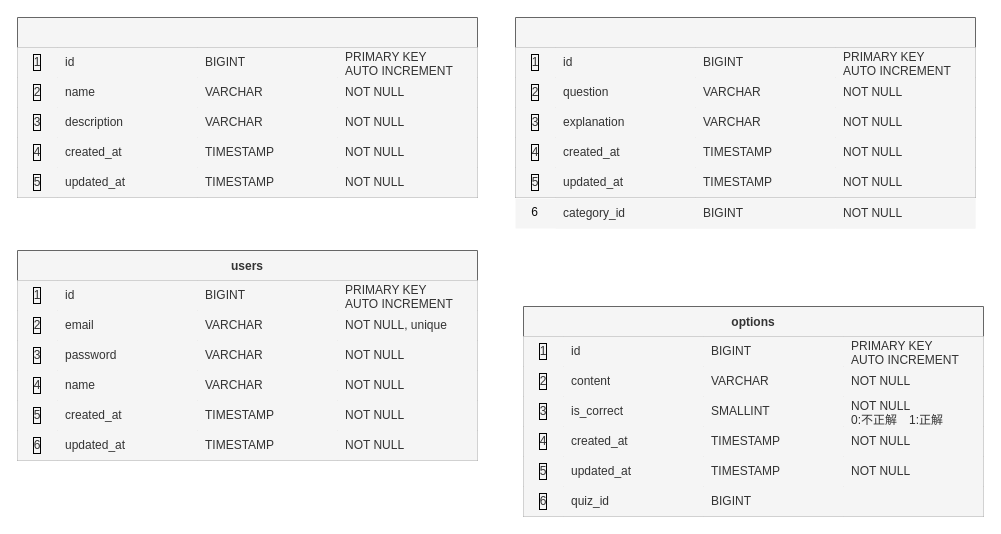
This 1001x534 diagram has some shape labels left out. The shapes that lost their labels are listed below. From the top down, each one's box as (x1, y1, x2, y2) in pixels, then its label:
(16, 16, 478, 198): categories
(514, 16, 976, 198): quizzes
